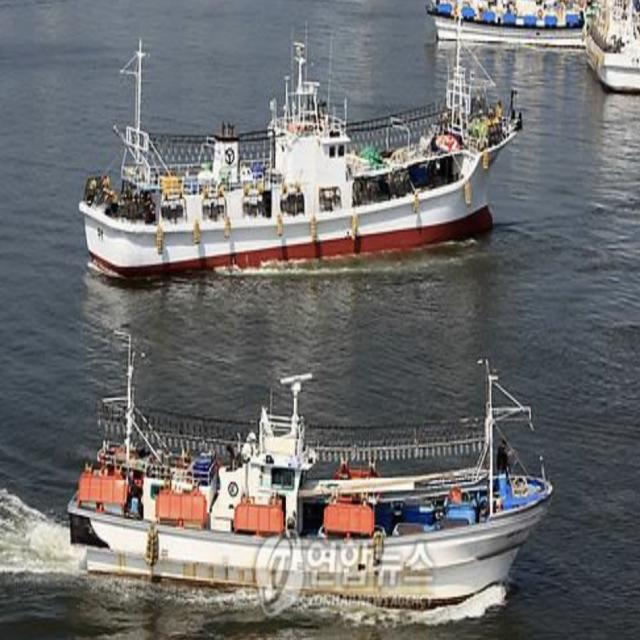Ship: (58, 327, 570, 631), (75, 40, 539, 284)
